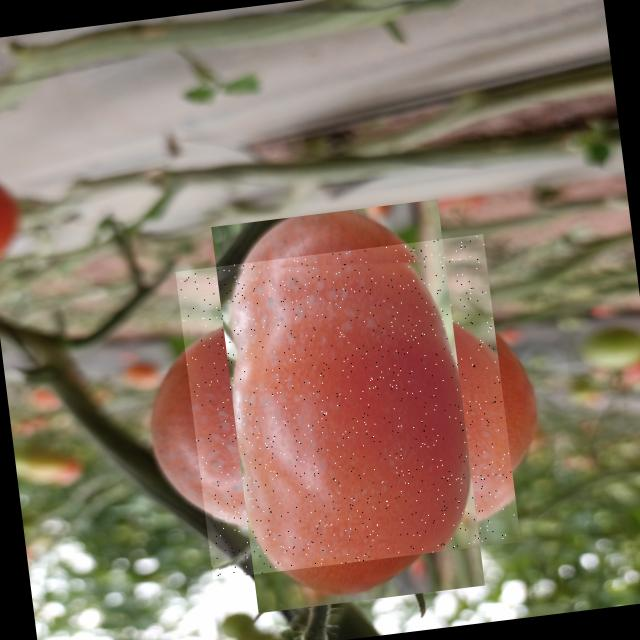Ripe Tomato: (175, 234, 520, 579)
